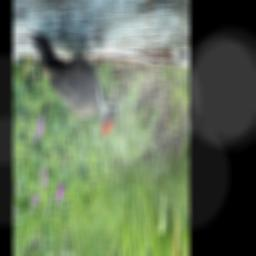Woodpecker: (28, 34, 125, 136)
